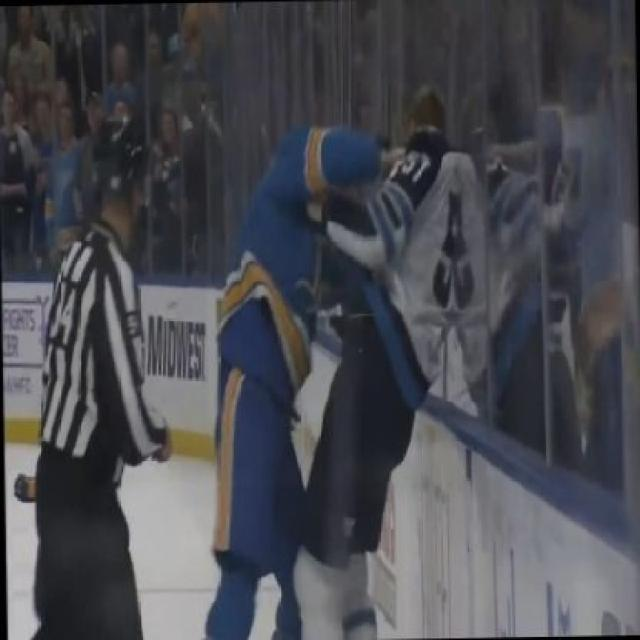fight: (192, 82, 491, 638)
non-fight: (14, 81, 175, 637)
